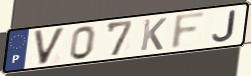0: (67, 24, 98, 62)
7: (105, 20, 136, 58)
F: (168, 10, 210, 52)
J: (211, 9, 237, 43)
K: (139, 17, 169, 53)
V: (31, 26, 68, 67)
